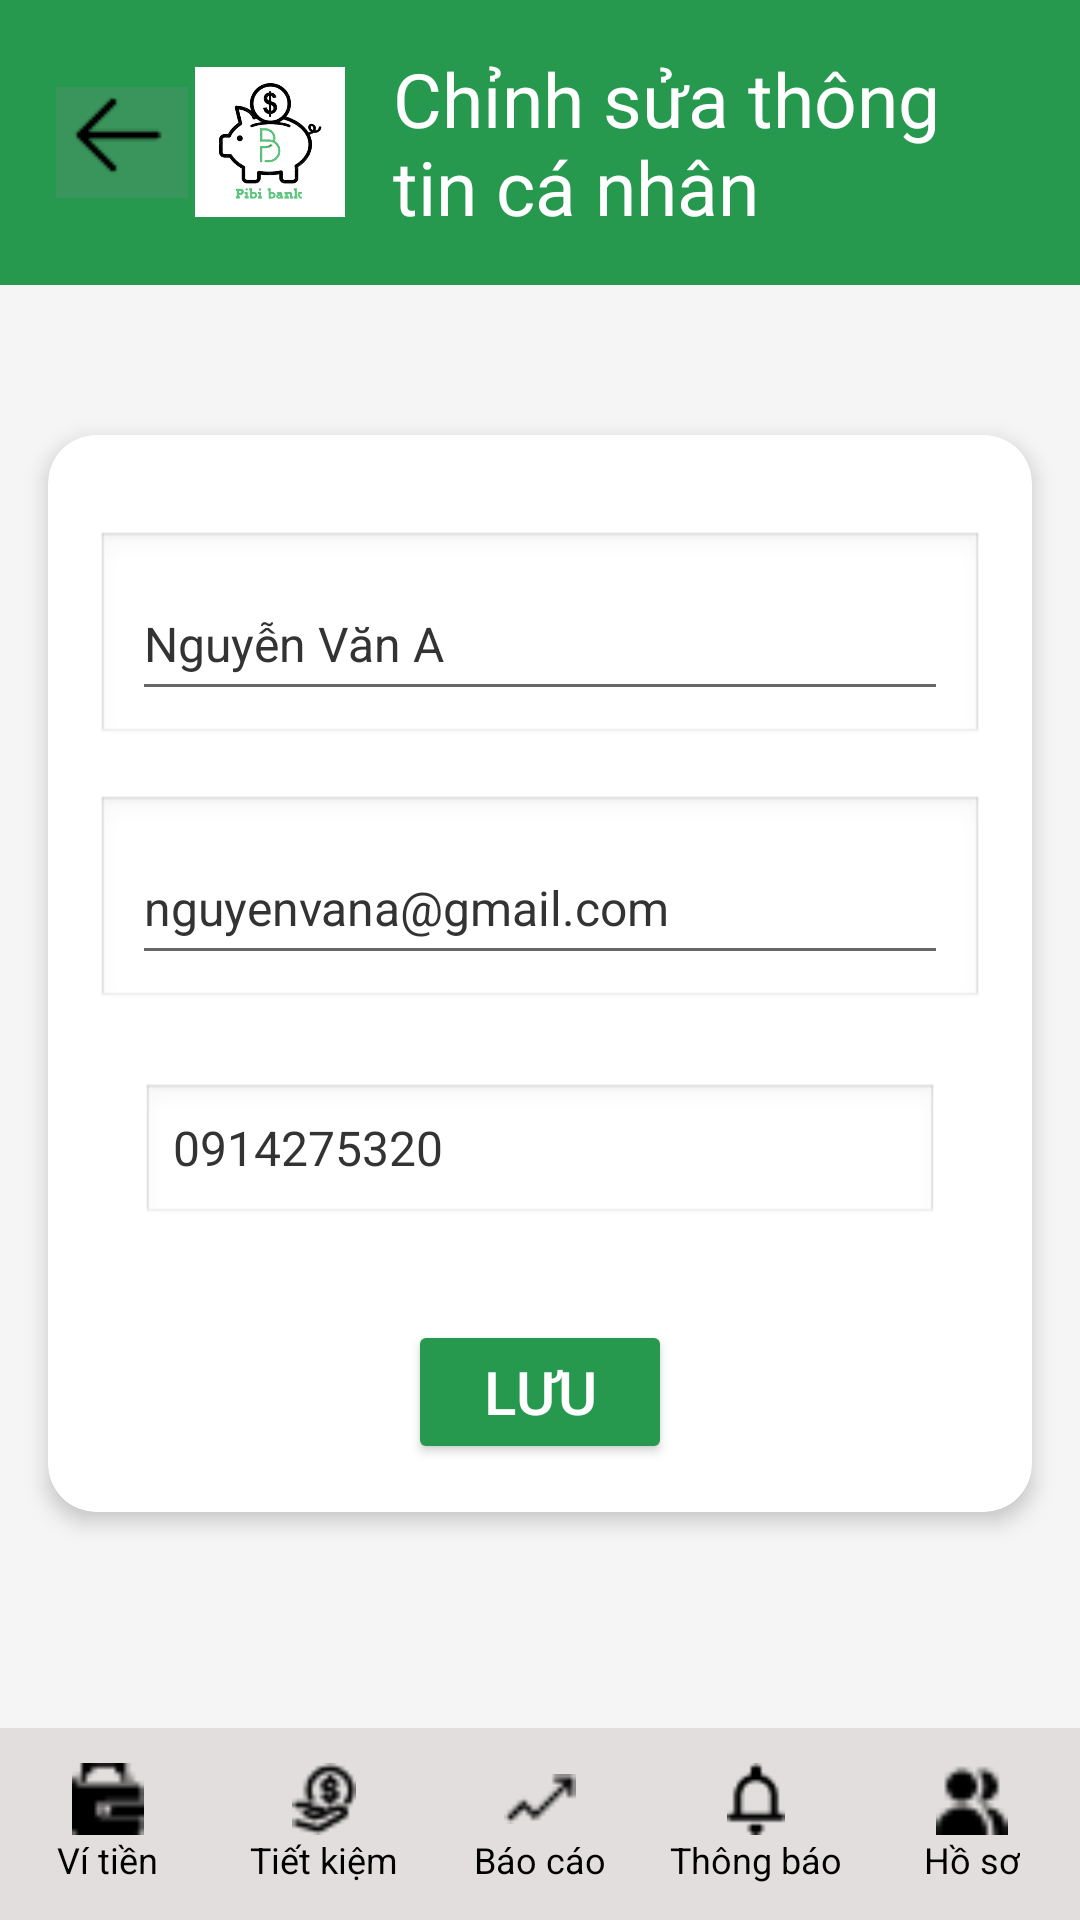

Icons on this 1080 × 1920 Android screen, each with its box as {"x1": x1, "y1": y1, "x2": x2, "y2": y2}:
muiten: {"x1": 56, "y1": 87, "x2": 188, "y2": 198}
